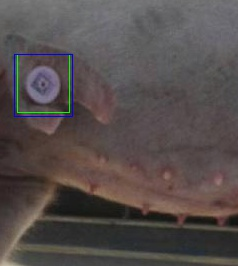text: (17, 54, 69, 112)
